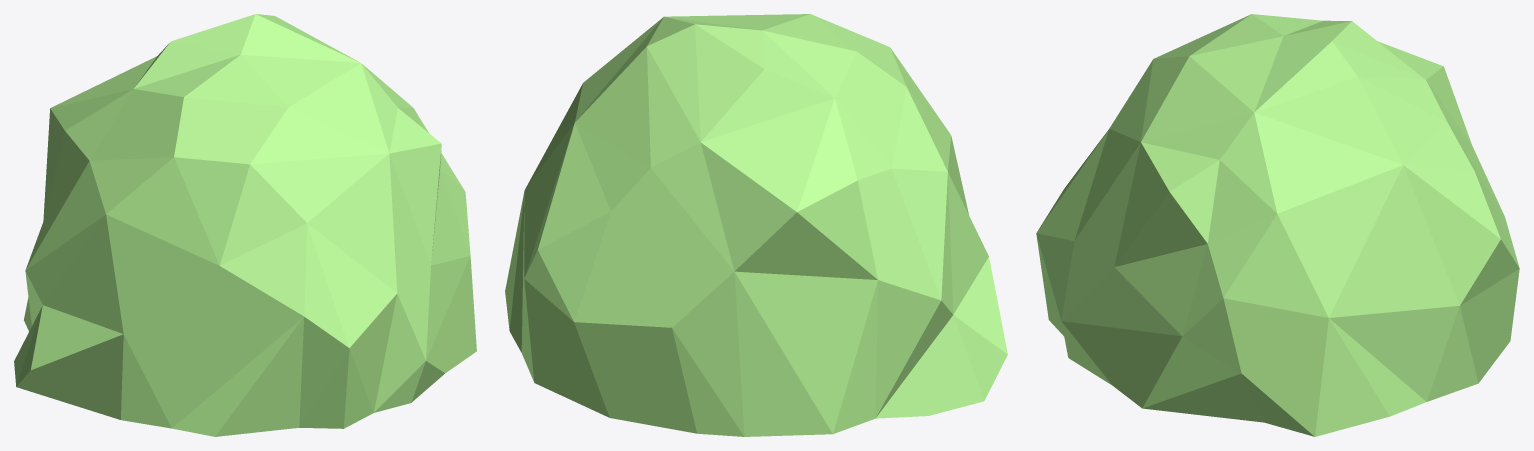
Rendered from Bush_b_m_01.fbx.
3 views of the same model, side by side, from view 1: azimuth 30°, elevation 25°; view 2: azimuth 150°, elevation 25°; view 3: azimuth 270°, elevation 25° (orthographic). The views are drawn at different scales.
Visible parts, largest first — view 1: Bush_b_m_01; view 2: Bush_b_m_01; view 3: Bush_b_m_01.
Part boxes in pixels (bbox=[...]): Bush_b_m_01: bbox=[14, 14, 476, 436]; Bush_b_m_01: bbox=[505, 14, 1007, 436]; Bush_b_m_01: bbox=[1036, 14, 1519, 436].
Bounding box in the file's own units: 209 × 135 × 194.
